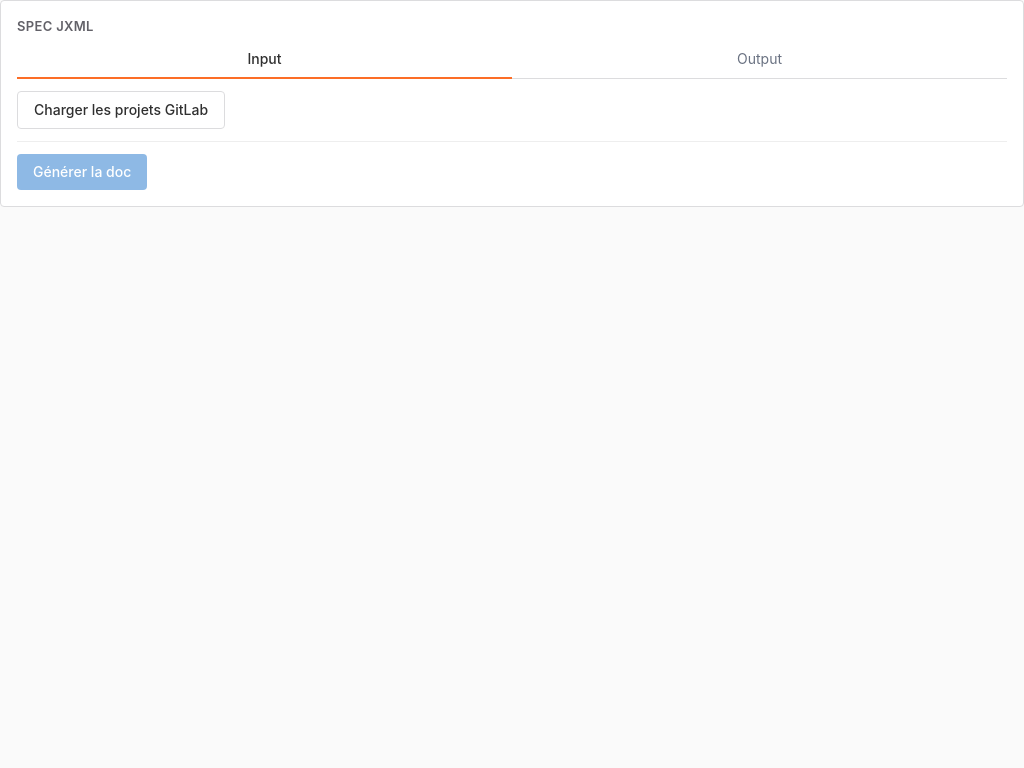
Test: CodePanel › bulk toggles all source paths
This screenshot has width=1024, height=768.
Click the button "Charger les projets GitLab" at x=121, y=110, box left=17, top=90, right=225, bottom=128
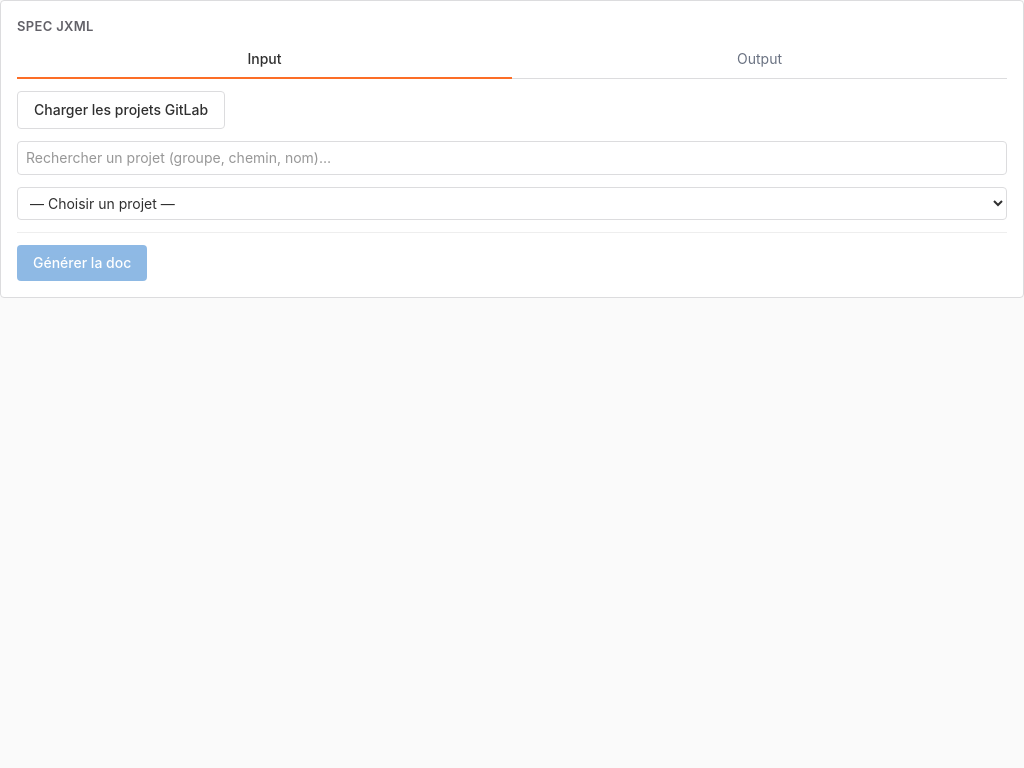
expect the dropdown is shown: met
Select "[jway-forms] jway-forms/onboarding-kyc" in the dropdown at x=512, y=203, box left=17, top=186, right=1007, bottom=220
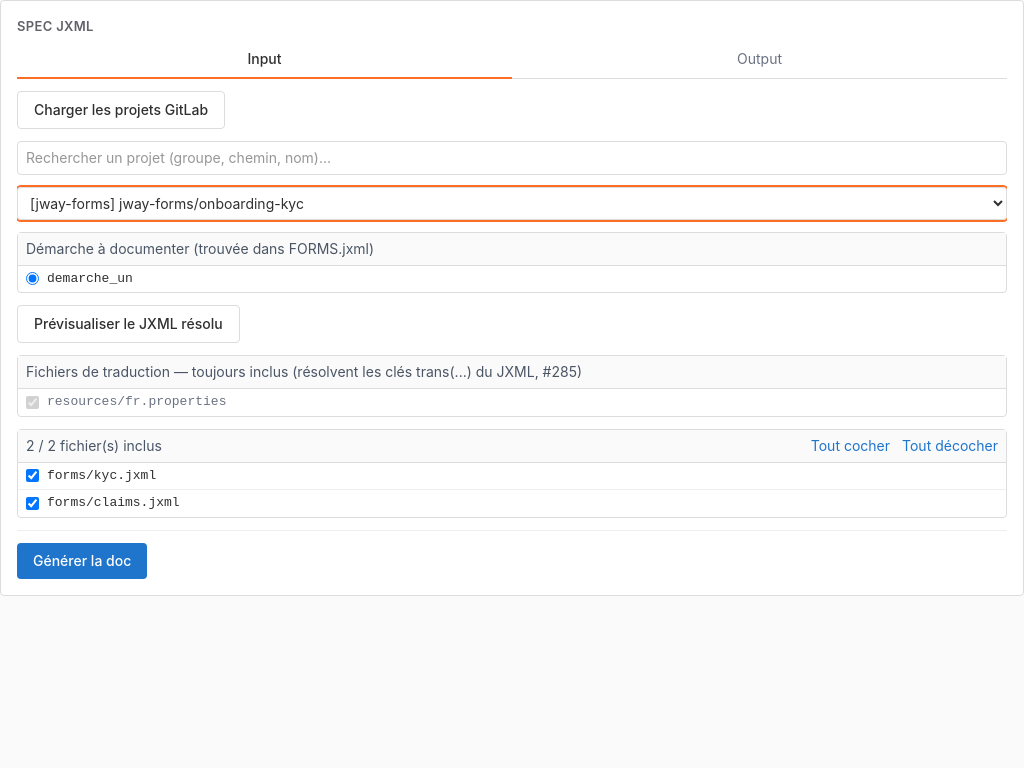
expect the text "demarche_un" is shown: met, box left=47, top=270, right=133, bottom=288
Click the button "Tout décocher" at x=950, y=446, box left=902, top=436, right=998, bottom=456
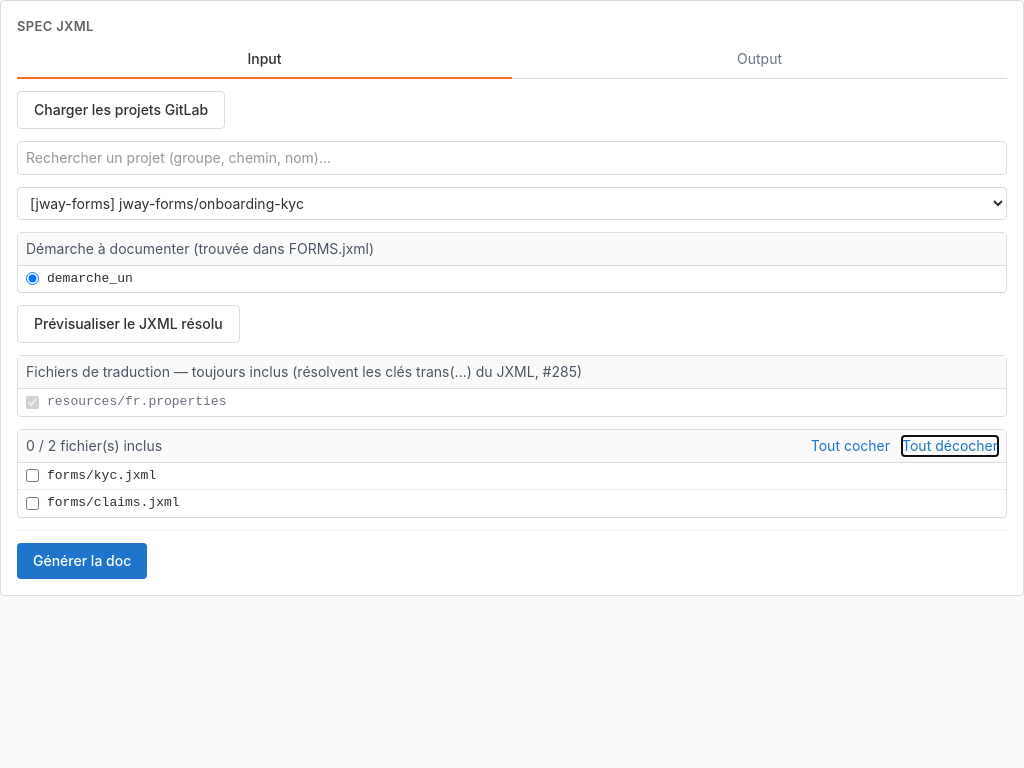
expect the text "0 / 2 fichier(s) inclus" is shown: met, box left=26, top=436, right=162, bottom=456
Click the button "Tout cocher" at x=850, y=446, box left=811, top=436, right=890, bottom=456
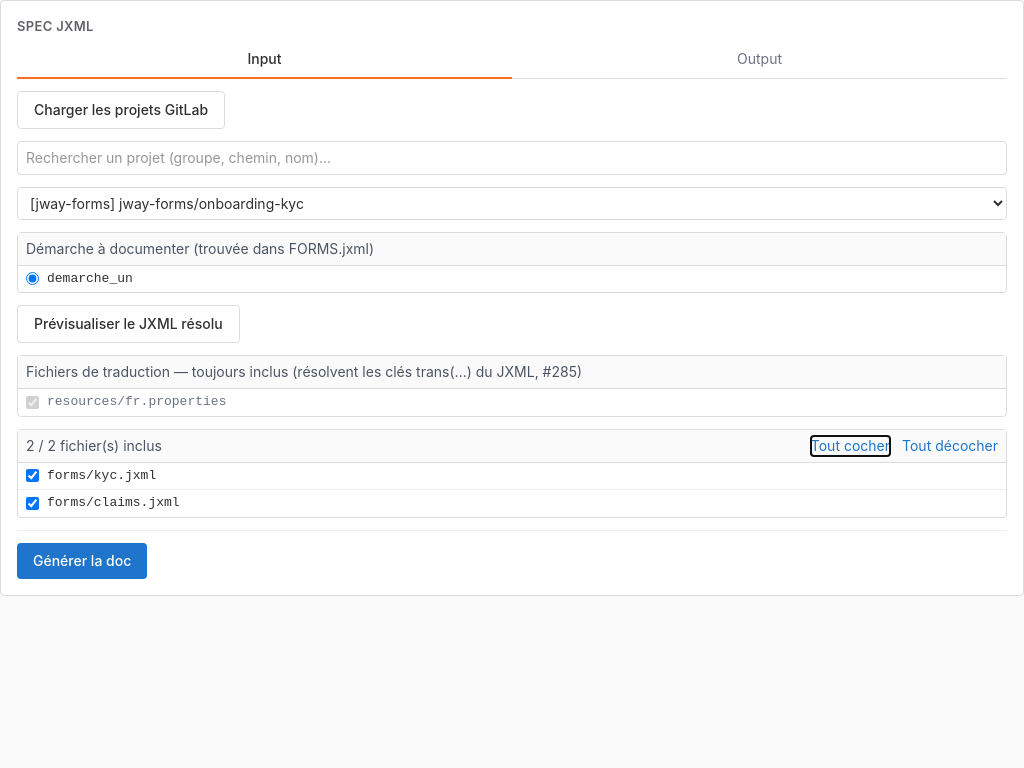
expect the text "2 / 2 fichier(s) inclus" is shown: met, box left=26, top=436, right=162, bottom=456
